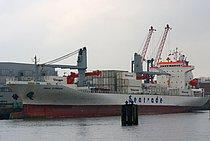Ship: (7, 54, 210, 122)
